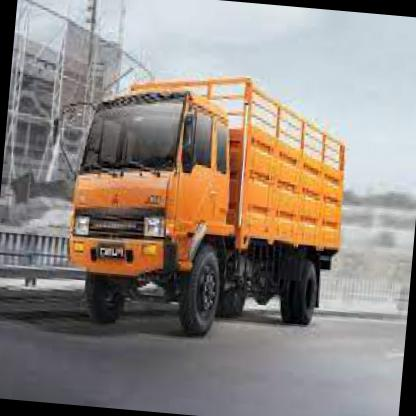truck: (62, 83, 240, 342)
